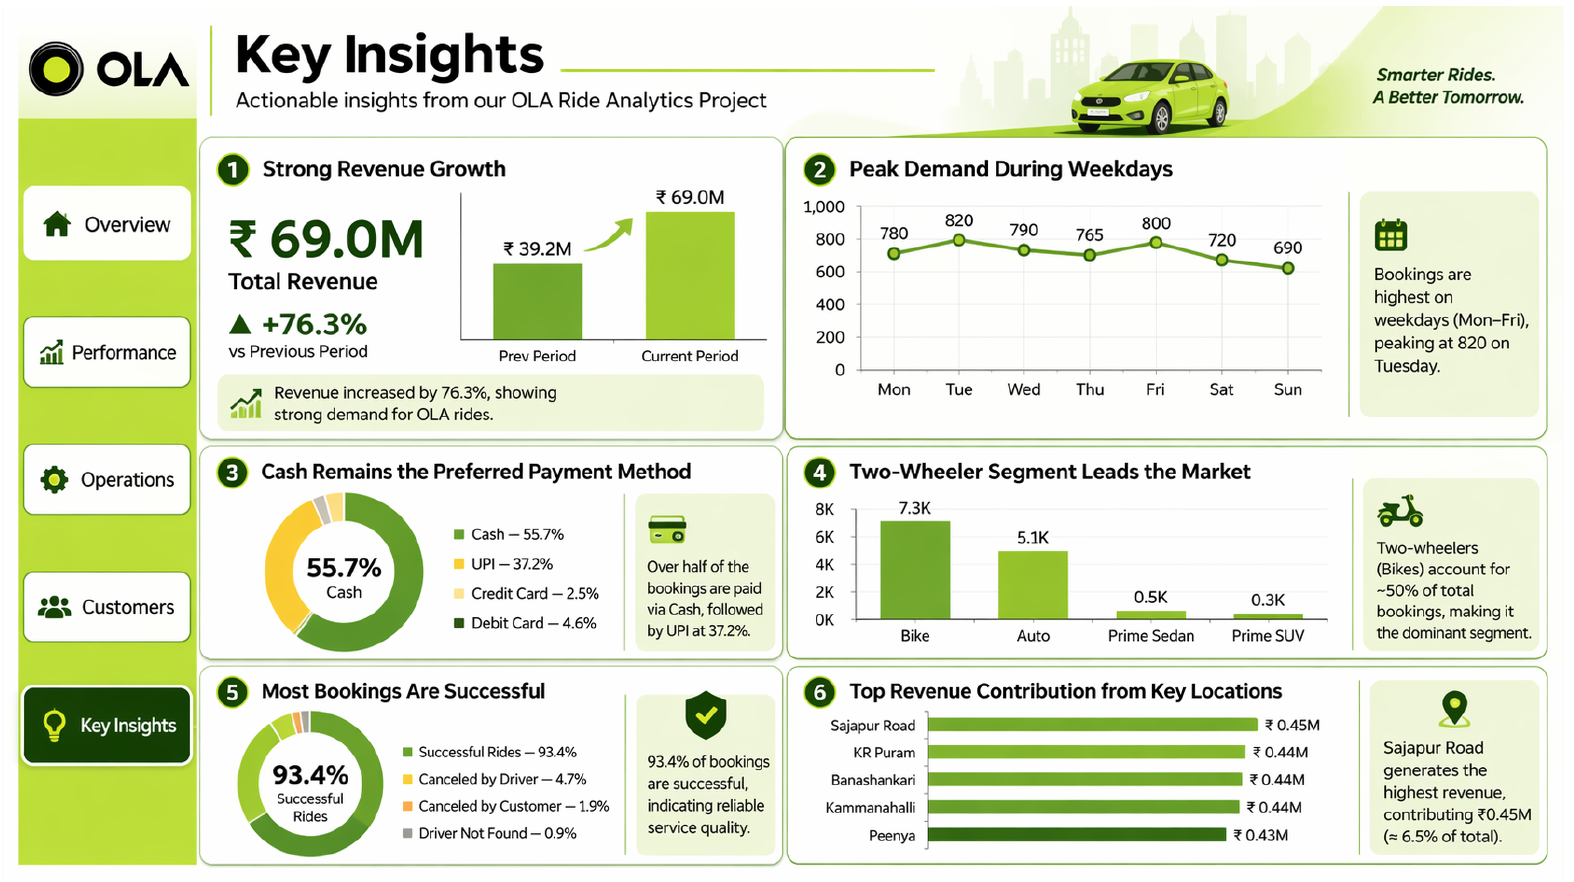

Layout of this report page (visuals, bound fields, positions):
{"tool":"powerbi","page":{"name":"Insights","canvas":[1920,1080],"ordinal":4},"visuals":[{"type":"image","box":[0,0,1919.6,1080.4],"z":0}]}

Visuals, with their boxes in screenshot pixels (x1, y1, x2, y2), scaled from the page's 1920x1080 canvas onto the 1574x882 screenshot:
image: 0 0 1573 881
